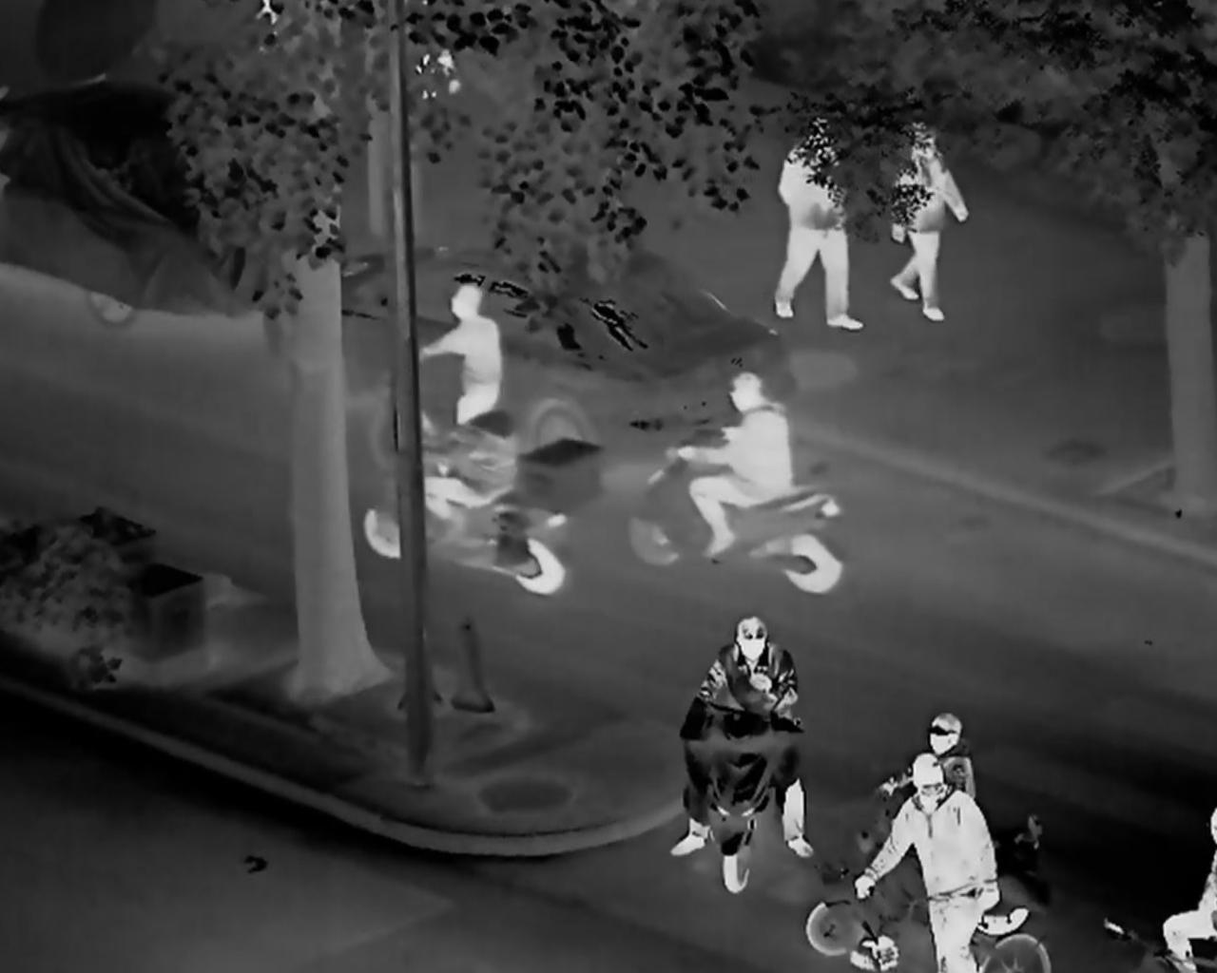person: (677, 596, 821, 857), (879, 771, 1000, 973), (765, 101, 862, 348), (679, 375, 802, 549), (889, 122, 972, 333), (873, 695, 979, 838), (418, 280, 507, 427), (426, 397, 512, 523), (1163, 793, 1216, 973)
